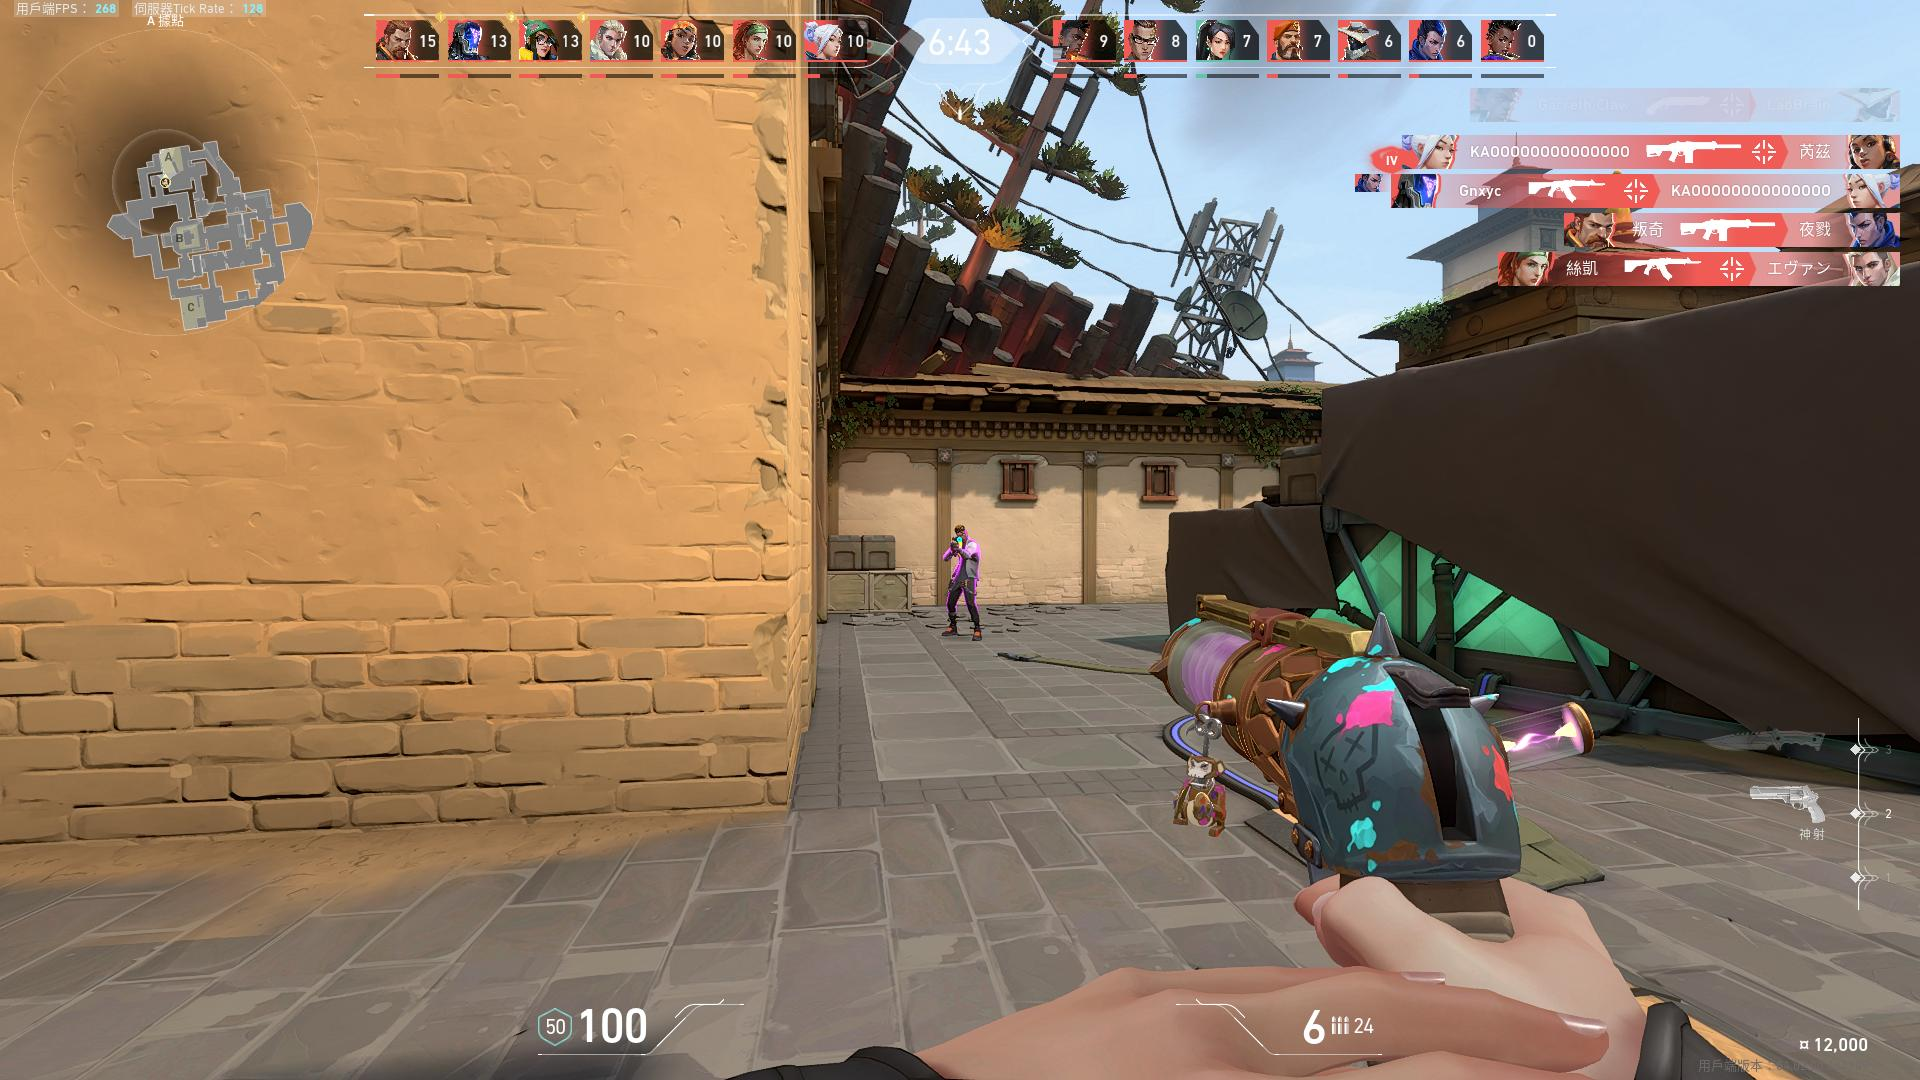enemyBody: (960, 545, 975, 575)
enemyHead: (957, 530, 965, 542)
